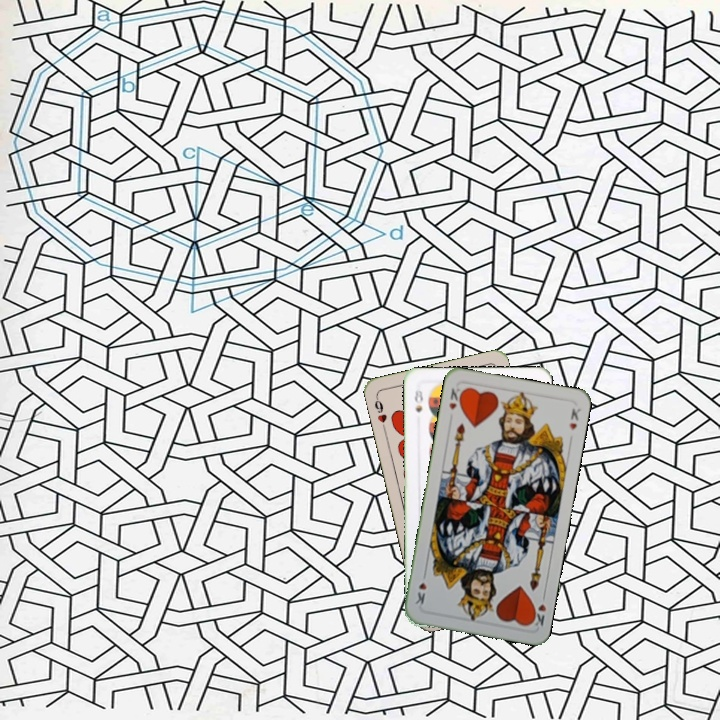H9: (370, 392, 390, 432)
HK: (527, 589, 549, 629), (445, 383, 466, 412)
S8: (411, 384, 426, 415)
